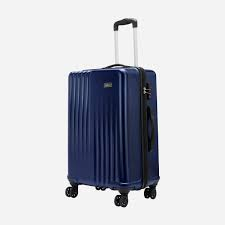suitcase: (64, 15, 160, 208)
